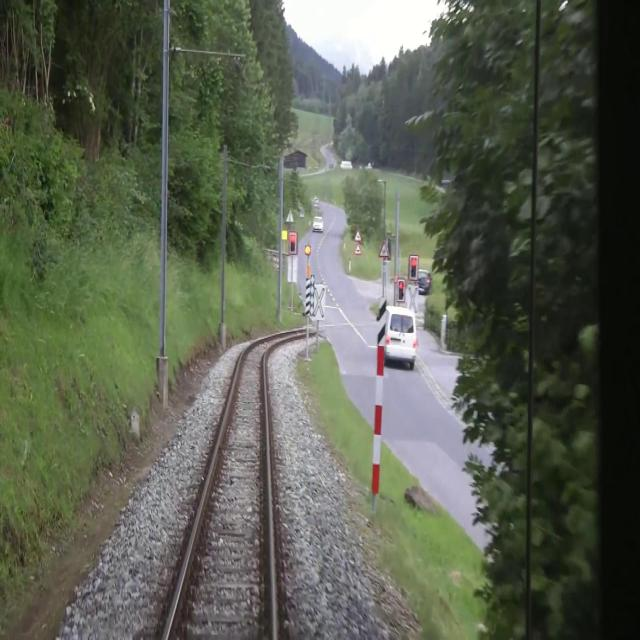rail-track: (167, 332, 290, 639)
